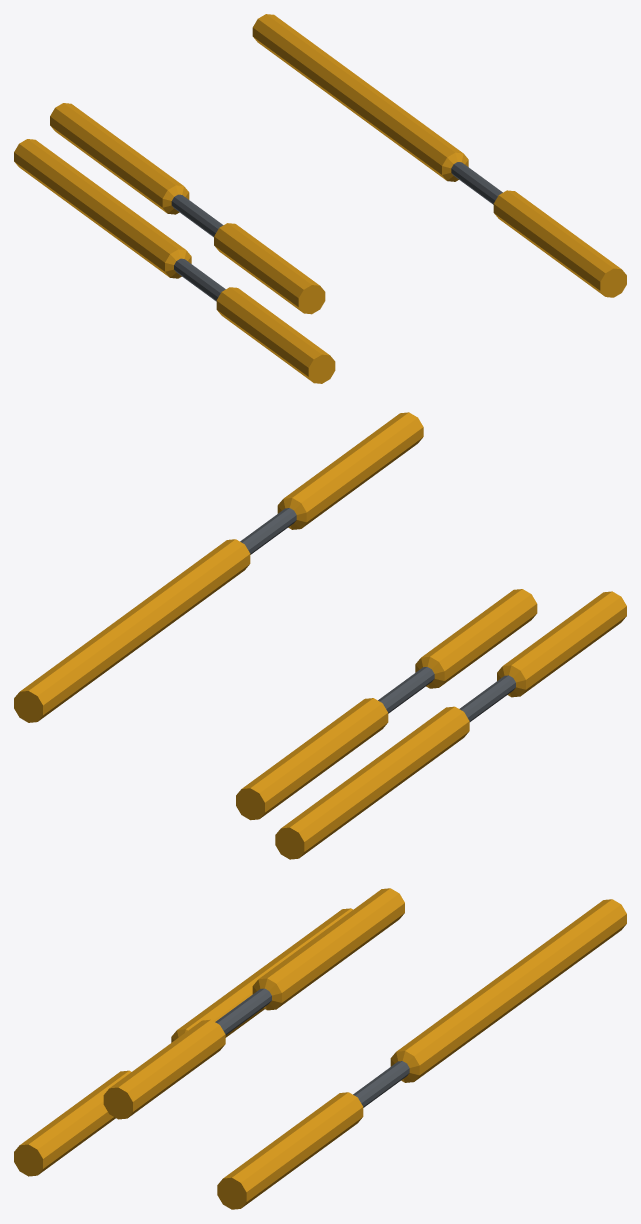
The model's file is Mothership_01_Antenna_Yellow.fbx.
3 views of the same model, one above another, from view 1: azimuth 30°, elevation 25°; view 2: azimuth 150°, elevation 25°; view 3: azimuth 330°, elevation 25° (orthographic). The views are drawn at different scales.
Parts seen in each view (by area): view 1: Mothership_01_Antenna_Yellow; view 2: Mothership_01_Antenna_Yellow; view 3: Mothership_01_Antenna_Yellow.
Part boxes in pixels (x1,y1,x2,y2): Mothership_01_Antenna_Yellow: [14, 14, 626, 383]; Mothership_01_Antenna_Yellow: [14, 412, 626, 859]; Mothership_01_Antenna_Yellow: [14, 888, 626, 1209].
Bounding box in the file's own units: 649 × 224 × 1473.
Materials: 1 (1 with a texture image).
